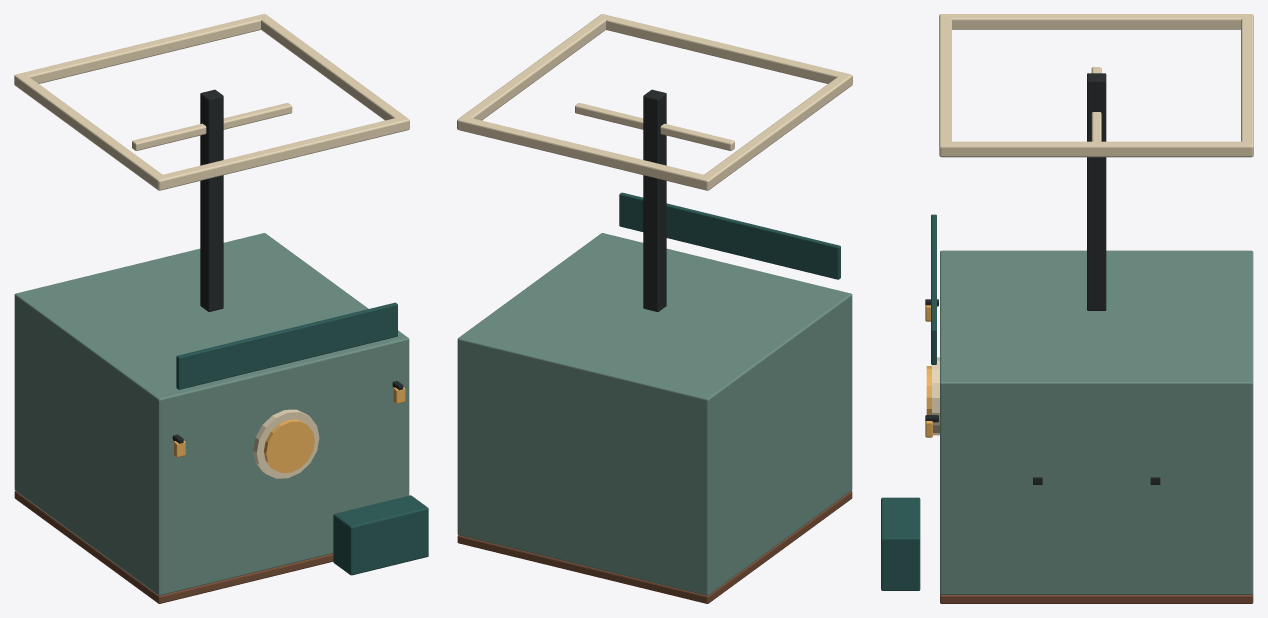
File: NQ-BLD-05.glb
3 renders of one model, left to right at view 1: azimuth 30°, elevation 25°; view 2: azimuth 150°, elevation 25°; view 3: azimuth 270°, elevation 25°, orthographic. The views are drawn at different scales.
Parts seen in each view (by area): view 1: RadioHouse, NQ-SGN-05, AccessibleControlDesk, Mast, CreamRoofCornice, CreamRoofCornice.001, Floor, CreamSideCornice, CreamSideCornice.001, AmberSignalWindow, AntennaCrossbar, RoundSignalFrame; view 2: RadioHouse, NQ-SGN-05, Mast, CreamRoofCornice.001, CreamRoofCornice, Floor, CreamSideCornice, CreamSideCornice.001, AntennaCrossbar; view 3: RadioHouse, CreamSideCornice.001, CreamSideCornice, Mast, AccessibleControlDesk, Floor, CreamRoofCornice, CreamRoofCornice.001, NQ-SGN-05, RoundSignalFrame.
Part boxes in pixels (bbox=[...]): RadioHouse: bbox=[14, 233, 409, 595]; NQ-SGN-05: bbox=[176, 302, 397, 389]; AccessibleControlDesk: bbox=[333, 495, 428, 575]; Mast: bbox=[200, 89, 223, 311]; CreamRoofCornice: bbox=[155, 116, 409, 190]; CreamRoofCornice.001: bbox=[15, 14, 267, 83]; Floor: bbox=[14, 491, 333, 603]; CreamSideCornice: bbox=[14, 75, 162, 190]; CreamSideCornice.001: bbox=[258, 14, 409, 128]; AmberSignalWindow: bbox=[264, 419, 314, 472]; AntennaCrossbar: bbox=[132, 103, 292, 150]; RoundSignalFrame: bbox=[253, 409, 319, 478]; RadioHouse: bbox=[457, 233, 852, 595]; NQ-SGN-05: bbox=[619, 192, 840, 279]; Mast: bbox=[643, 89, 666, 311]; CreamRoofCornice.001: bbox=[457, 116, 711, 190]; CreamRoofCornice: bbox=[598, 14, 851, 83]; Floor: bbox=[457, 491, 852, 603]; CreamSideCornice: bbox=[704, 75, 852, 190]; CreamSideCornice.001: bbox=[457, 14, 608, 128]; AntennaCrossbar: bbox=[575, 103, 734, 150]; RadioHouse: bbox=[940, 250, 1253, 594]; CreamSideCornice.001: bbox=[940, 141, 1252, 157]; CreamSideCornice: bbox=[941, 14, 1251, 29]; Mast: bbox=[1087, 73, 1106, 310]; AccessibleControlDesk: bbox=[881, 497, 920, 590]; Floor: bbox=[940, 594, 1253, 603]; CreamRoofCornice: bbox=[939, 14, 951, 156]; CreamRoofCornice.001: bbox=[1241, 14, 1253, 156]; NQ-SGN-05: bbox=[931, 214, 936, 364]; RoundSignalFrame: bbox=[932, 357, 939, 435].
Size of the model in its own units: 16.2 by 26 by 19.02.
